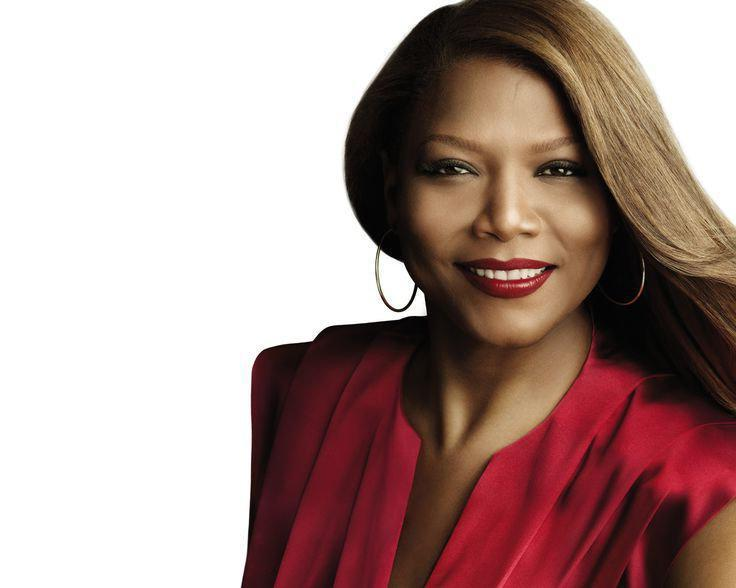Sober: (409, 70, 602, 328)
